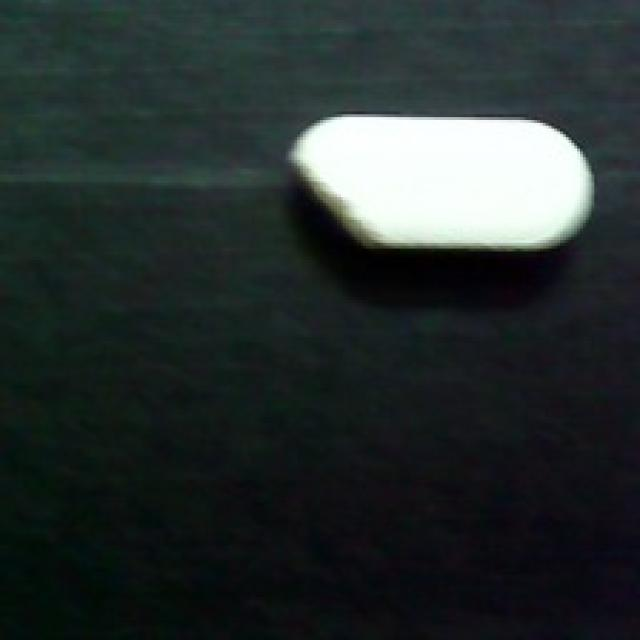defected: (286, 100, 620, 257)
